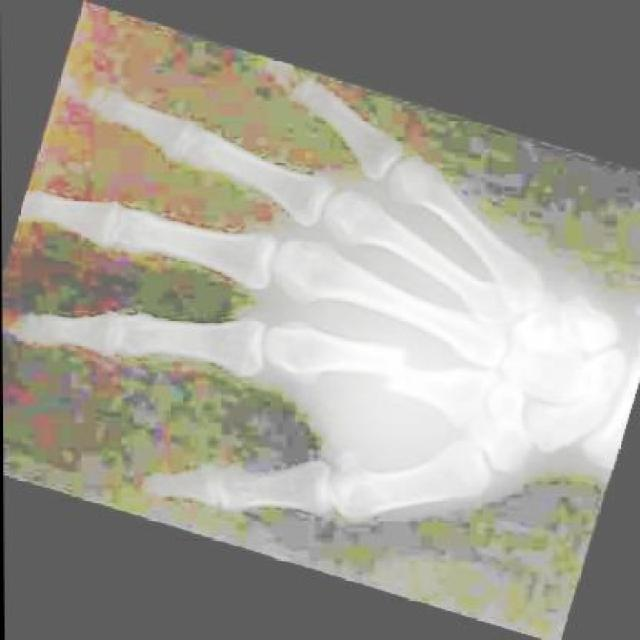Fracture: (362, 335, 421, 408)
